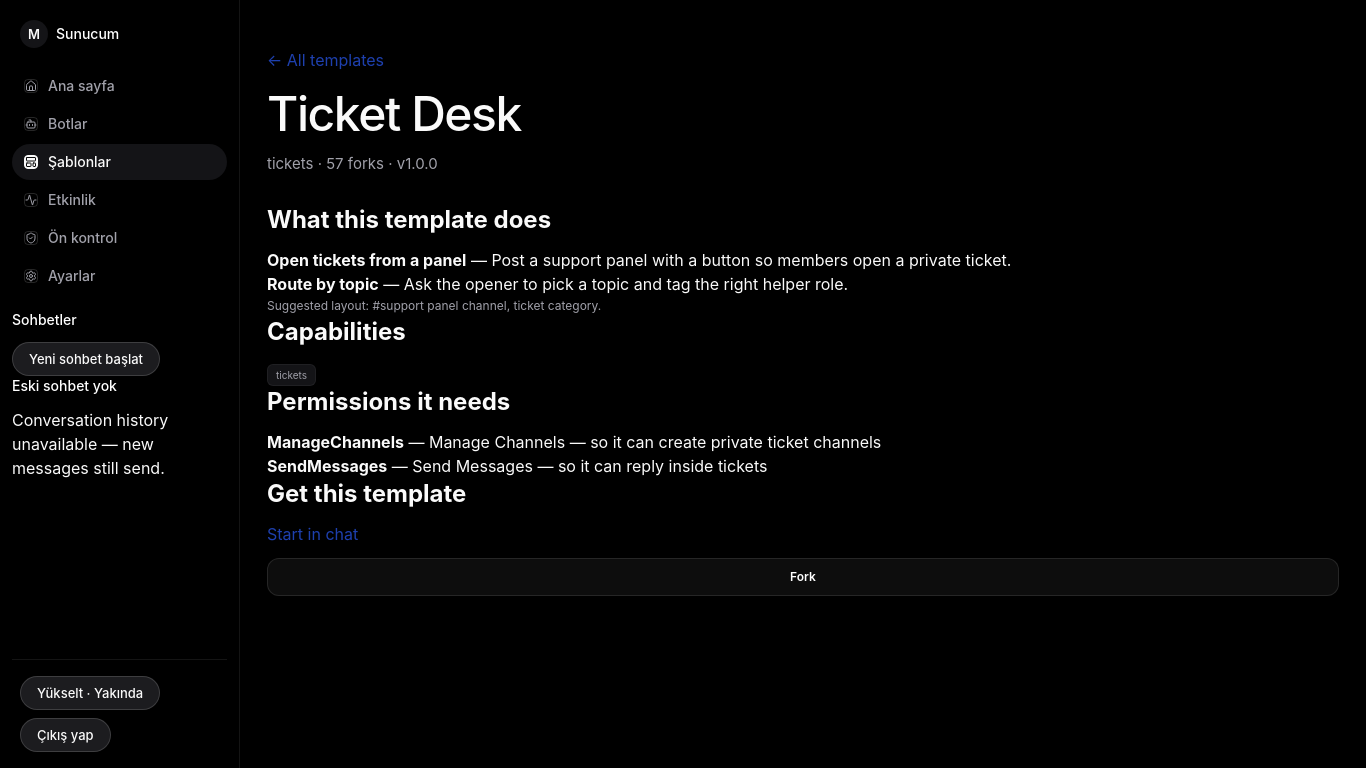
it: template detail page › shows the server error text on fork failure, without fake success
Expected: the heading "Ticket Desk" is shown, [267, 84, 521, 143]
Click the button "Fork" at (803, 576), box [267, 558, 1339, 596]
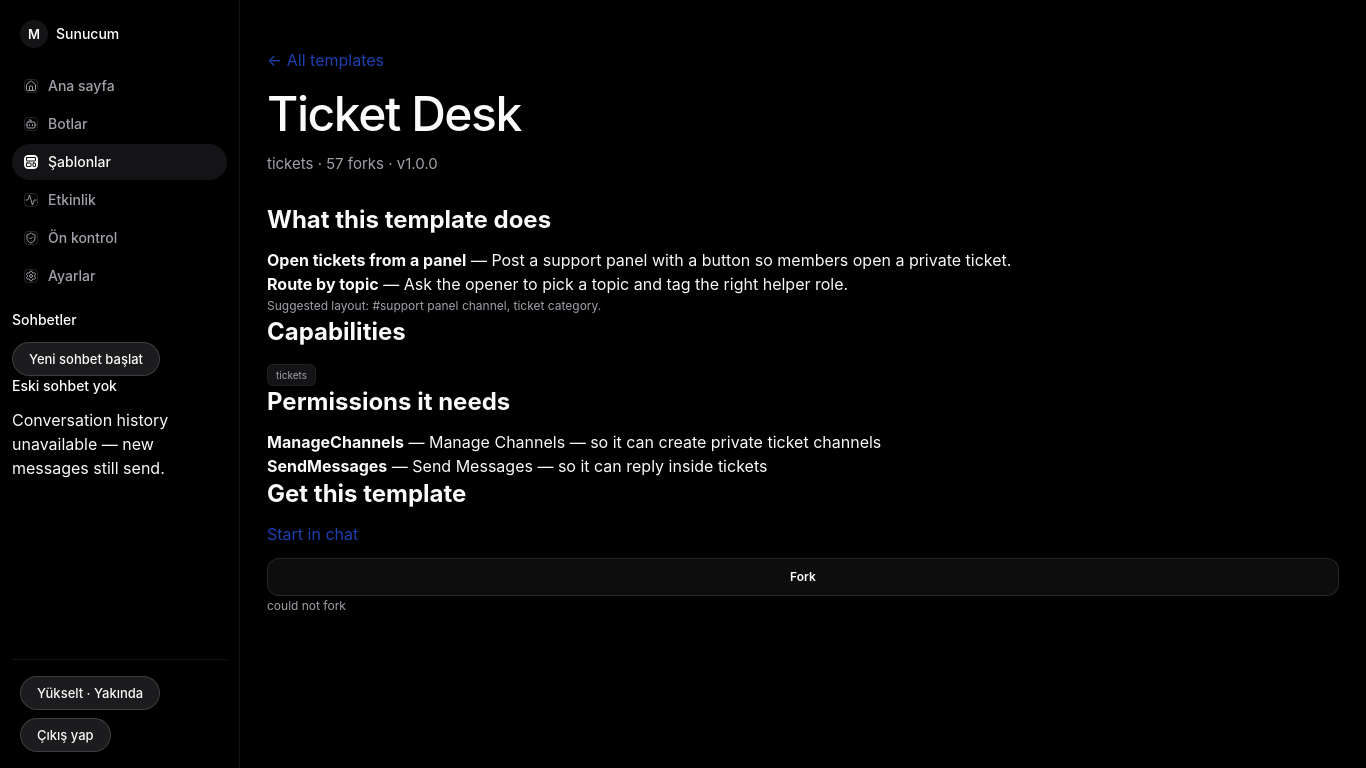
Expected: the message "could not fork" is shown, [267, 598, 346, 612]
